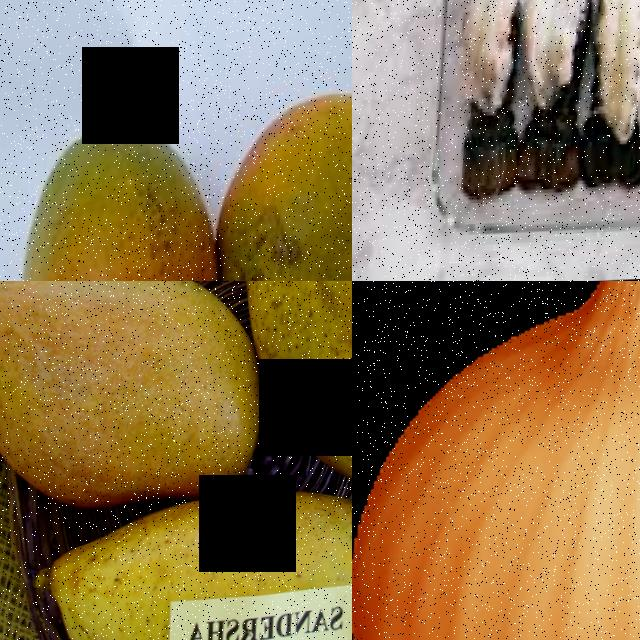lobster tails: (525, 36, 596, 199), (464, 47, 532, 204), (587, 30, 640, 192)
mango: (0, 281, 271, 512), (44, 493, 352, 640), (14, 117, 234, 281), (210, 86, 352, 281), (250, 281, 352, 500)
onion: (352, 281, 640, 640)
